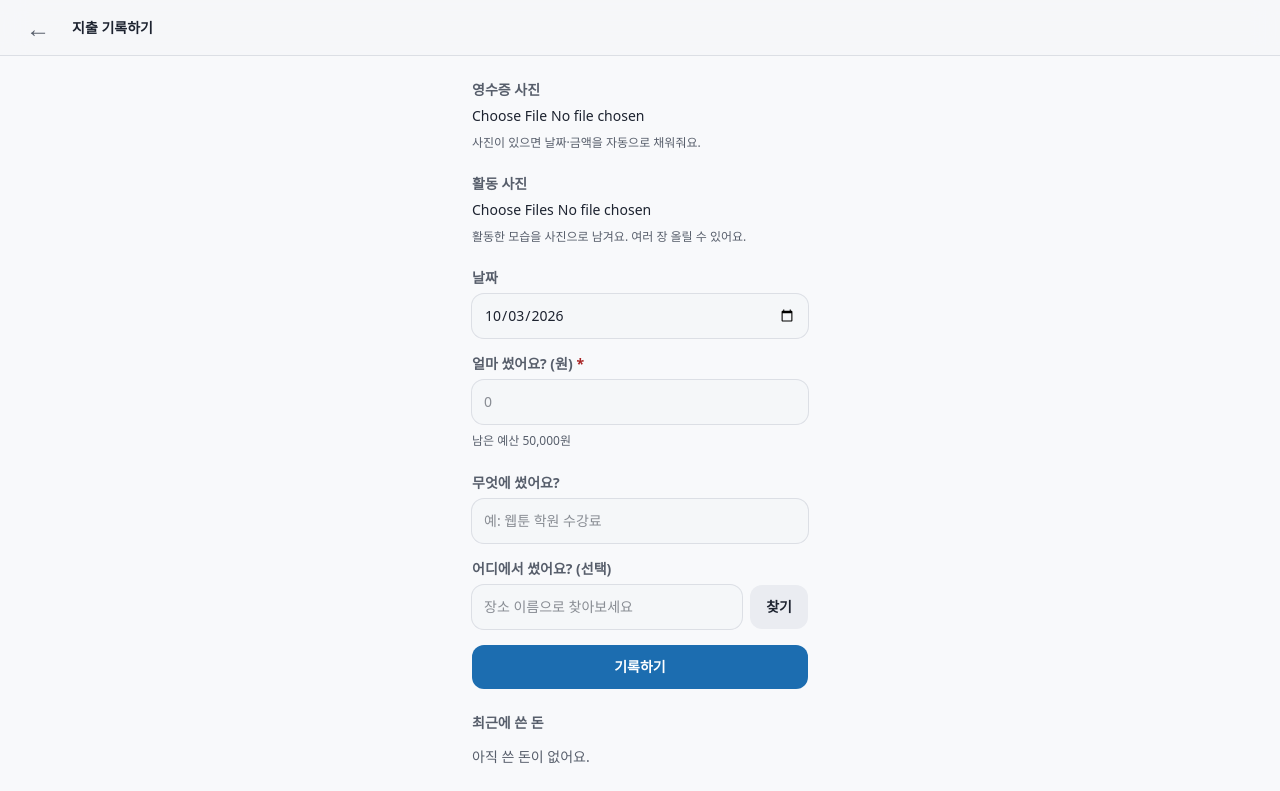
Test: ReceiptClient — 지출 기록 성공 안내(당사자) P2 a11y › 다 저장되면 polite(role=status) 에 성공 문구가 한 번만 도달하고, 보이는 성공 상자가 뜬다
In the number field labelled "얼마 썼어요? (원) *": (640, 402) [472, 380, 808, 424], type "5000"
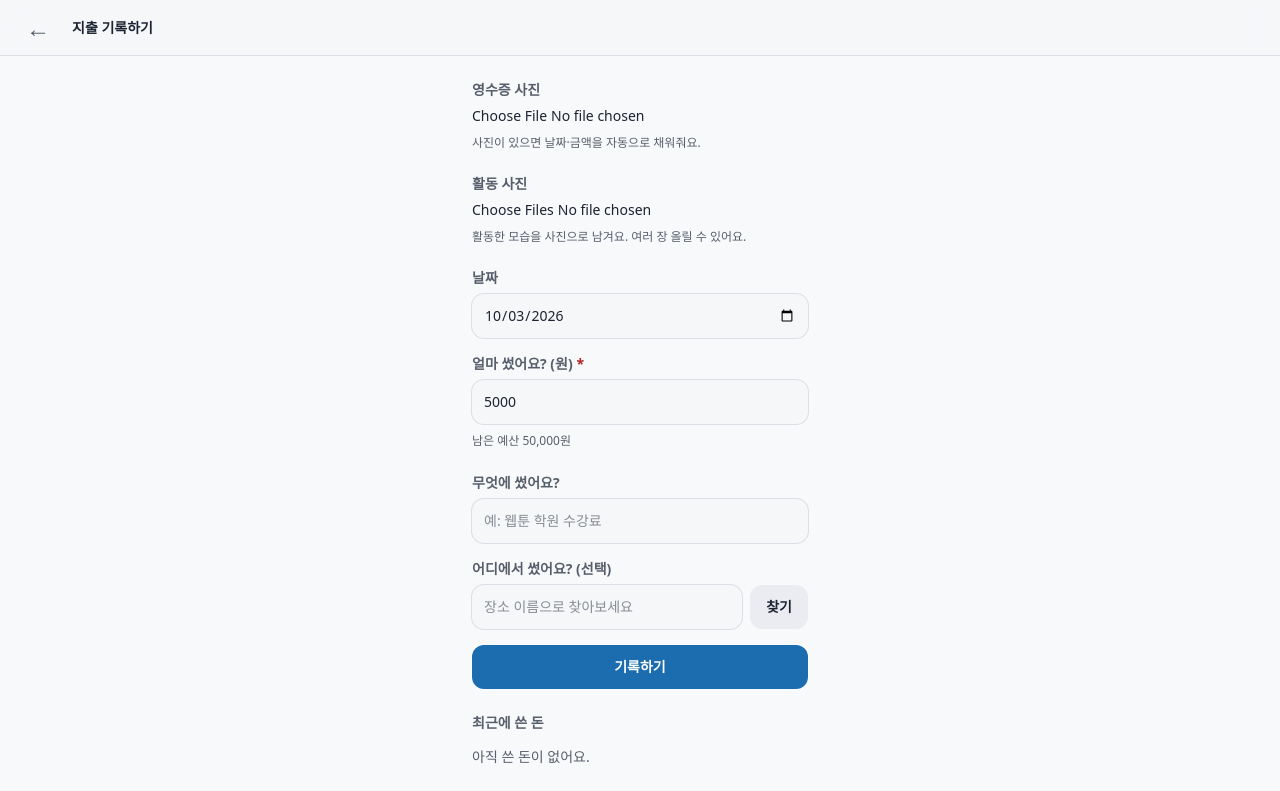
Expected: the button "기록하기" is enabled, [472, 645, 808, 689]
Submit the form named "기록하기", box [472, 80, 808, 689]
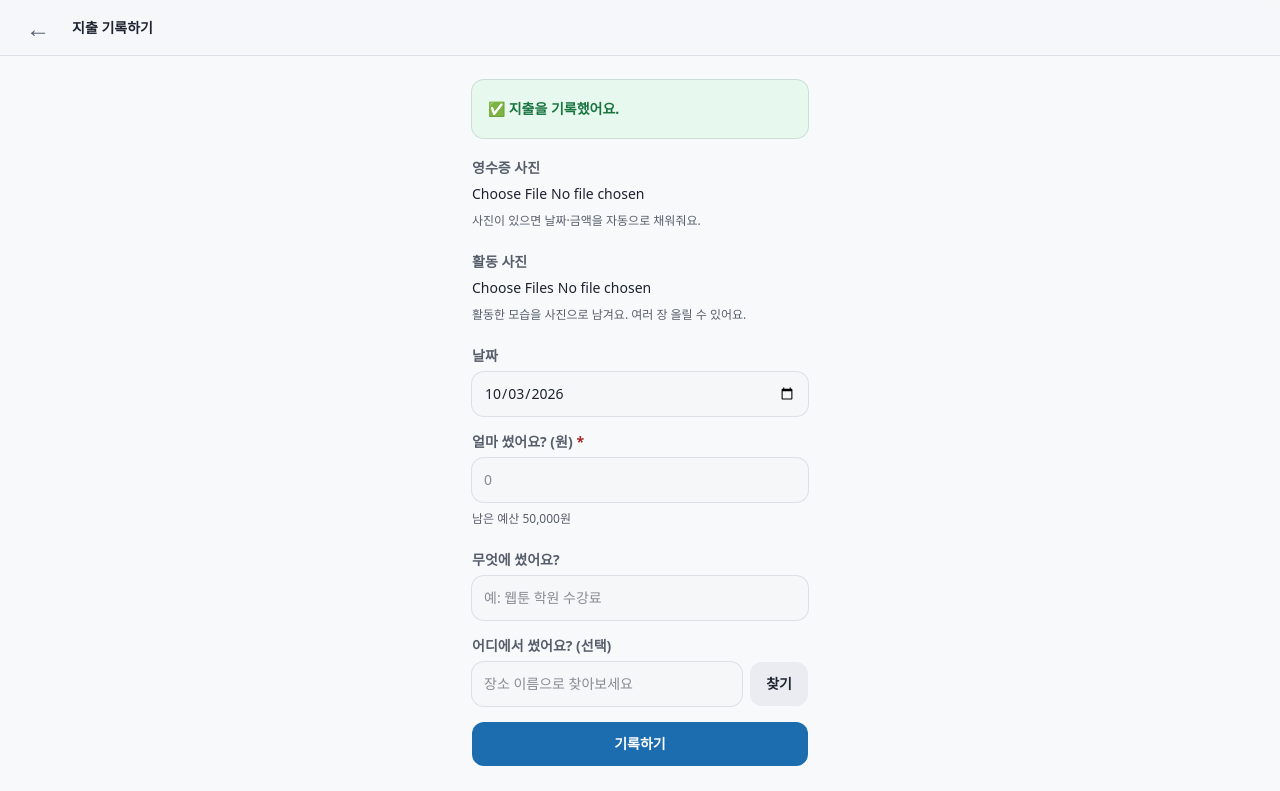
Expected: the text "지출을 기록했어요." is shown, [509, 99, 619, 118]
Expected: the number field labelled "얼마 썼어요? (원) *" is empty, [472, 458, 808, 502]
